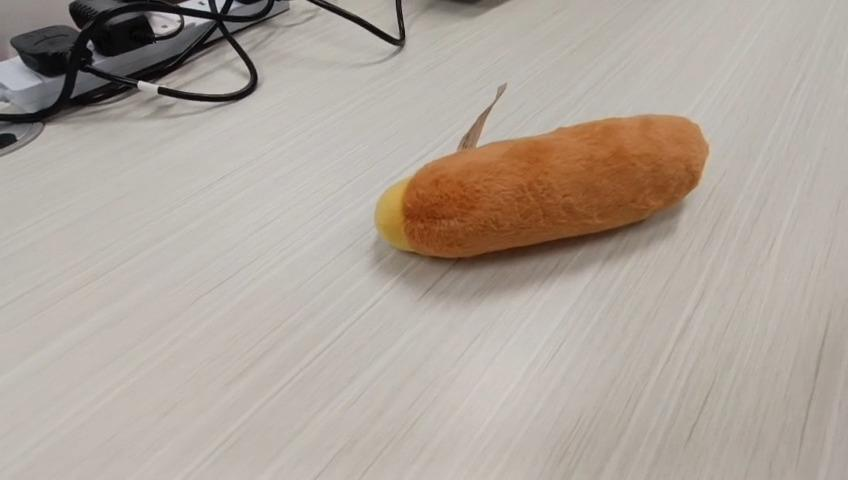hotdog: (373, 83, 709, 259)
